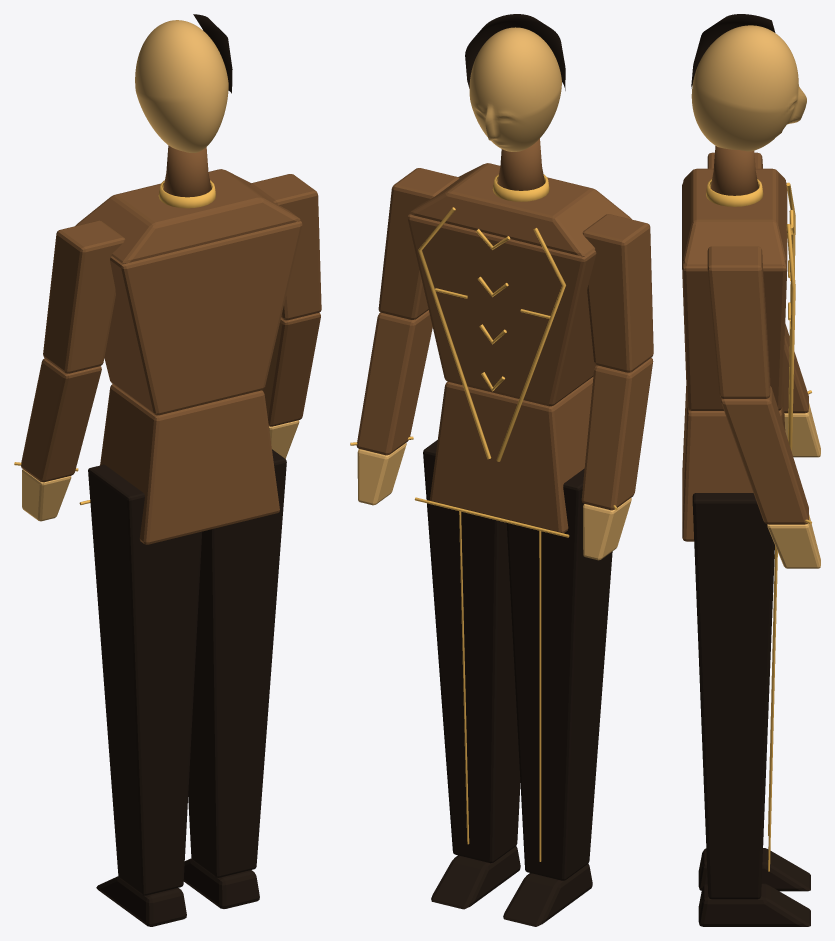
File: pessoa_deco.glb
3 renders of one model, left to right at view 1: azimuth 30°, elevation 25°; view 2: azimuth 150°, elevation 25°; view 3: azimuth 270°, elevation 25°, orthographic.
Parts seen in each view (by area): view 1: calca, calca.001, paleto_peito, paleto_baixo, ombros, cabeca, braco, antebraco, braco.001, antebraco.001, sapato, sapato.001 (+5 smaller); view 2: calca, calca.001, paleto_peito, paleto_baixo, ombros, braco, cabeca, antebraco, antebraco.001, braco.001, sapato.001, sapato (+9 smaller); view 3: calca.001, cabeca, braco.001, paleto_peito, ombros, antebraco.001, paleto_baixo, sapato.001, pescoco, mao.001, sapato, mao (+7 smaller).
Boxes of the visible parts, x1,y1,x2,y2 form: calca: (88, 464, 201, 895); calca.001: (188, 449, 286, 877); paleto_peito: (104, 221, 302, 415); paleto_baixo: (100, 384, 279, 544); ombros: (75, 169, 300, 263); cabeca: (135, 20, 228, 152); braco: (43, 220, 124, 373); antebraco: (21, 358, 101, 482); braco.001: (249, 174, 321, 320); antebraco.001: (262, 312, 320, 426); sapato: (96, 876, 186, 926); sapato.001: (183, 858, 259, 908); calca: (506, 468, 612, 880); calca.001: (423, 440, 520, 863); paleto_peito: (407, 214, 596, 406); paleto_baixo: (430, 377, 593, 533); ombros: (409, 163, 631, 256); braco: (582, 214, 653, 372); cabeca: (469, 27, 561, 151); antebraco: (581, 358, 653, 510); antebraco.001: (356, 310, 432, 455); braco.001: (378, 168, 459, 319); sapato.001: (431, 846, 520, 909); sapato: (503, 864, 592, 926); calca.001: (692, 493, 774, 899); cabeca: (691, 25, 806, 151); braco.001: (707, 246, 770, 398); paleto_peito: (682, 182, 787, 410); ombros: (683, 168, 785, 266); antebraco.001: (721, 386, 808, 524); paleto_baixo: (682, 384, 785, 541); sapato.001: (698, 883, 810, 926); pescoco: (710, 146, 758, 195); mao.001: (767, 514, 820, 568); sapato: (698, 848, 810, 891); mao: (784, 403, 820, 457).
Size of the model in its own units: 0.5941 by 1.84 by 0.2633.
